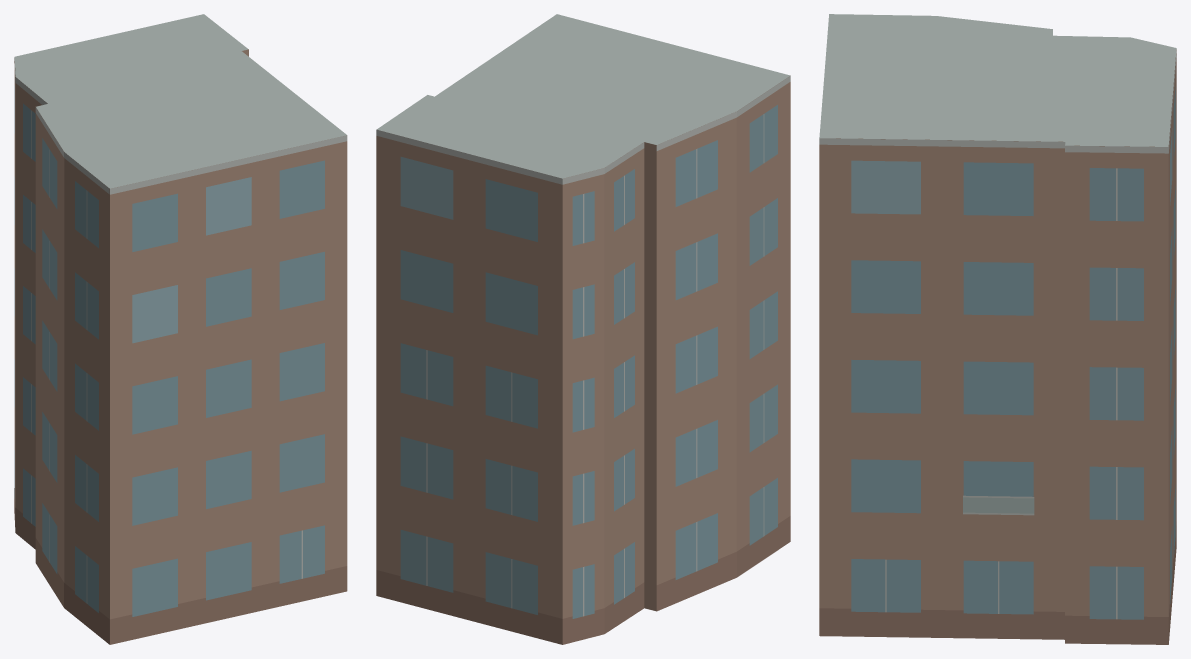
The model's file is survey-upis-32873441.glb.
3 renders of one model, left to right at view 1: azimuth 30°, elevation 25°; view 2: azimuth 150°, elevation 25°; view 3: azimuth 270°, elevation 25°, orthographic. The views are drawn at different scales.
Visible parts, largest first — view 1: survey-upis-32873441.tmp; view 2: survey-upis-32873441.tmp; view 3: survey-upis-32873441.tmp.
Boxes of the visible parts, x1,y1,x2,y2 form: survey-upis-32873441.tmp: [14, 14, 347, 644]; survey-upis-32873441.tmp: [376, 14, 790, 644]; survey-upis-32873441.tmp: [819, 14, 1176, 644].
Bounding box in the file's own units: 10.6 × 18.5 × 12.04.
